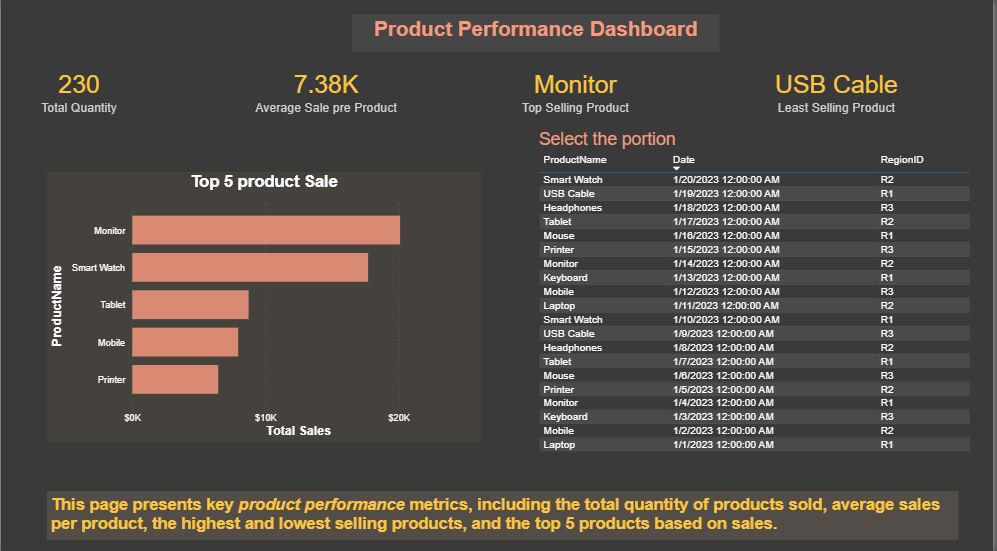

Layout of this report page (visuals, bound fields, positions):
{"tool":"powerbi","page":{"name":"Product Performance","canvas":[1280,720],"ordinal":3},"visuals":[{"type":"card","fields":{"Values":["Sales.Total Quantity"]},"box":[0,70.2,201.4,100.7],"z":0},{"type":"card","fields":{"Values":["Sales.Average Sale pre Product"]},"box":[318.9,70.2,201.4,100.7],"z":1000},{"type":"card","fields":{"Values":["Sales.Top Selling Product"]},"box":[640.8,70.2,199.9,100.7],"z":2000},{"type":"card","fields":{"Values":["Sales.Least Selling Product"]},"box":[977.9,70.2,199.9,100.7],"z":3000},{"type":"barChart","title":"Top 5 product Sale","fields":{"Category":["product.ProductName"],"Y":["Sales.Total Sales"]},"box":[59.5,225.8,559.9,347.8],"z":4000},{"type":"tableEx","title":"Select the portion","fields":{"Values":["product.ProductName","DateTable.Date","Region.RegionID"]},"box":[689.6,170.9,576.7,456.2],"z":5000},{"type":"textbox","box":[59.5,637.7,1176.3,62.6],"z":6000},{"type":"textbox","box":[453.1,21.4,474.5,48.8],"z":7000}]}

Visuals, with their boxes in screenshot pixels (x1, y1, x2, y2), scaled from the page's 1280x720 canvas onto the 997x551 screenshot:
card - Sales.Total Quantity: bbox(0, 54, 157, 131)
card - Sales.Average Sale pre Product: bbox(248, 54, 405, 131)
card - Sales.Top Selling Product: bbox(499, 54, 655, 131)
card - Sales.Least Selling Product: bbox(762, 54, 917, 131)
"Top 5 product Sale" barChart: bbox(46, 173, 482, 439)
"Select the portion" tableEx: bbox(537, 131, 986, 480)
textbox: bbox(46, 488, 963, 536)
textbox: bbox(353, 16, 723, 54)
